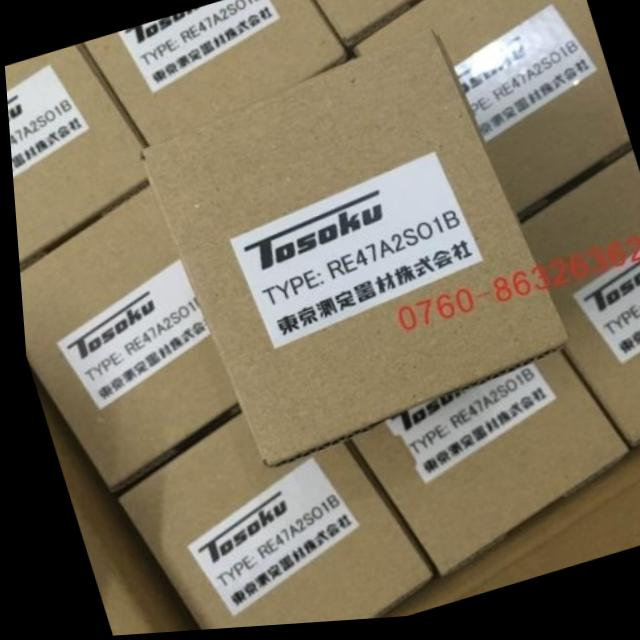box: (136, 34, 562, 473), (108, 414, 427, 632), (16, 185, 234, 493), (352, 0, 629, 228), (343, 357, 622, 582), (80, 0, 348, 147), (517, 157, 640, 455), (4, 44, 145, 270), (310, 0, 432, 55)
